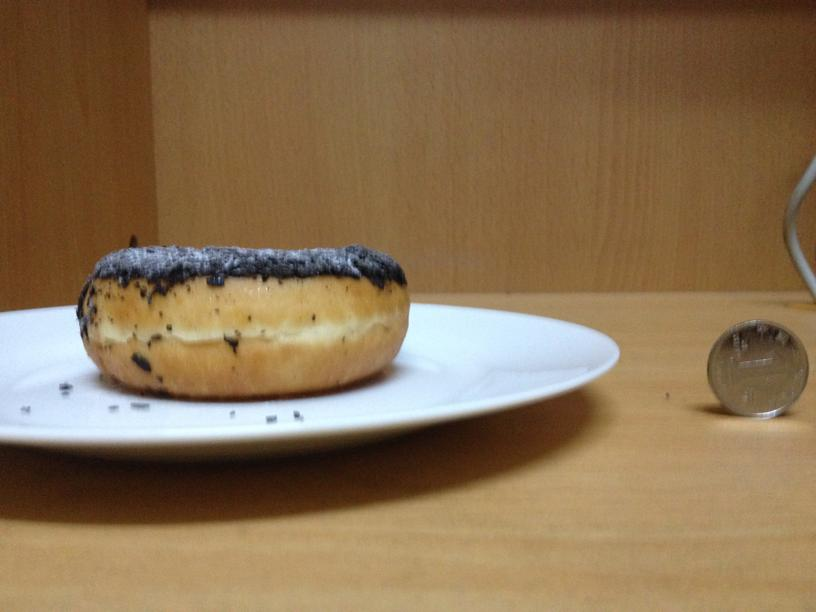coin: (707, 318, 807, 417)
doughnut: (73, 245, 410, 397)
